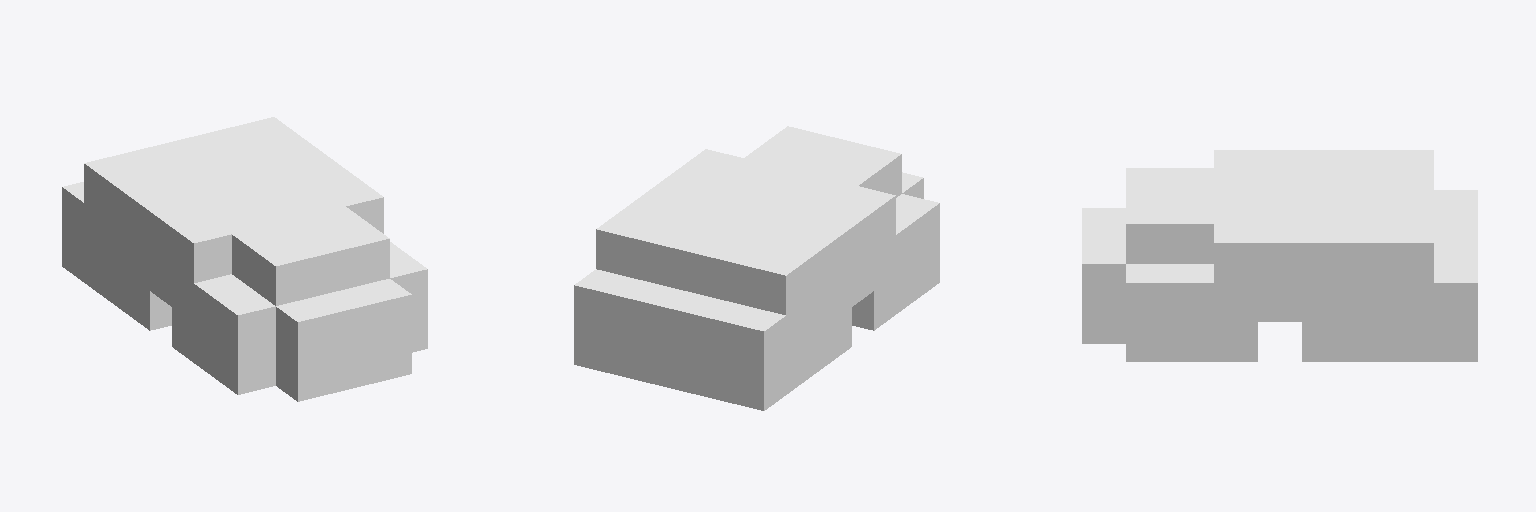
The model's file is shoe2.obj.
The picture shows the model from 3 angles: view 1: azimuth 30°, elevation 25°; view 2: azimuth 150°, elevation 25°; view 3: azimuth 270°, elevation 25°; orthographic projection.
Parts seen in each view (by area): view 1: object 1; view 2: object 1; view 3: object 1.
Part boxes in pixels (left/top/right/bottom): object 1: left=62, top=117, right=427, bottom=401; object 1: left=574, top=126, right=939, bottom=410; object 1: left=1082, top=150, right=1477, bottom=361.
Bounding box in the file's own units: 0.5 × 0.3 × 0.9.